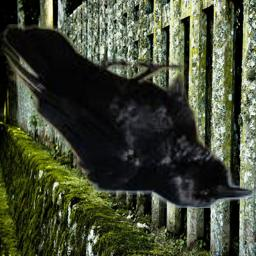Crow: (0, 24, 256, 208)
